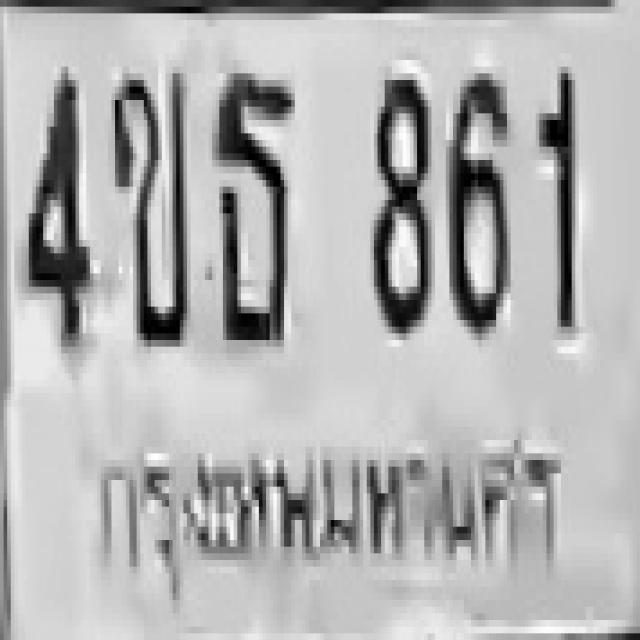1: (534, 63, 573, 330)
11KhorKhai: (106, 64, 185, 344)
33ThorThong: (209, 67, 291, 340)
4: (18, 64, 86, 344)
6: (446, 66, 507, 326)
8: (368, 66, 429, 326)
Bangkok: (79, 421, 568, 612)
